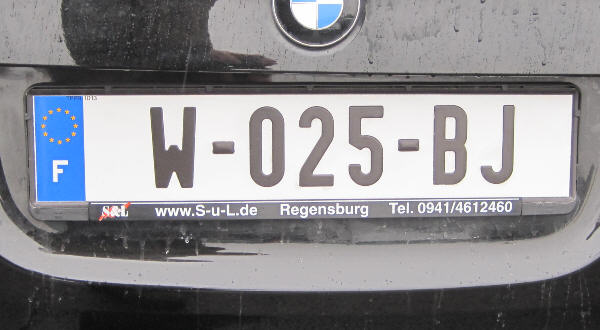license_plate: (31, 92, 576, 204)
